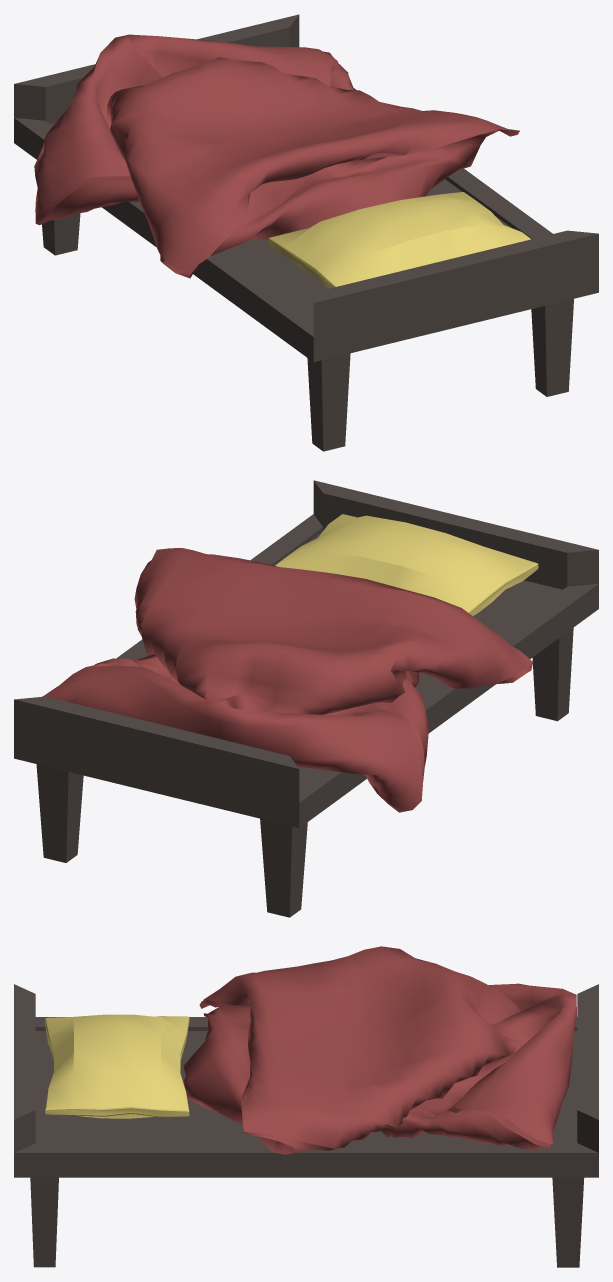
Rendered from Sem_Bed2_Color.fbx.
3 views of the same model, one above another, from view 1: azimuth 30°, elevation 25°; view 2: azimuth 150°, elevation 25°; view 3: azimuth 270°, elevation 25° (orthographic). The views are drawn at different scales.
Parts seen in each view (by area): view 1: polySurface4; view 2: polySurface4; view 3: polySurface4.
Part boxes in pixels (x1,y1,x2,y2): polySurface4: (14,14,598,451); polySurface4: (14,480,598,917); polySurface4: (14,946,598,1267).
Size of the model in its own units: 13.1 by 6.8 by 18.14.
